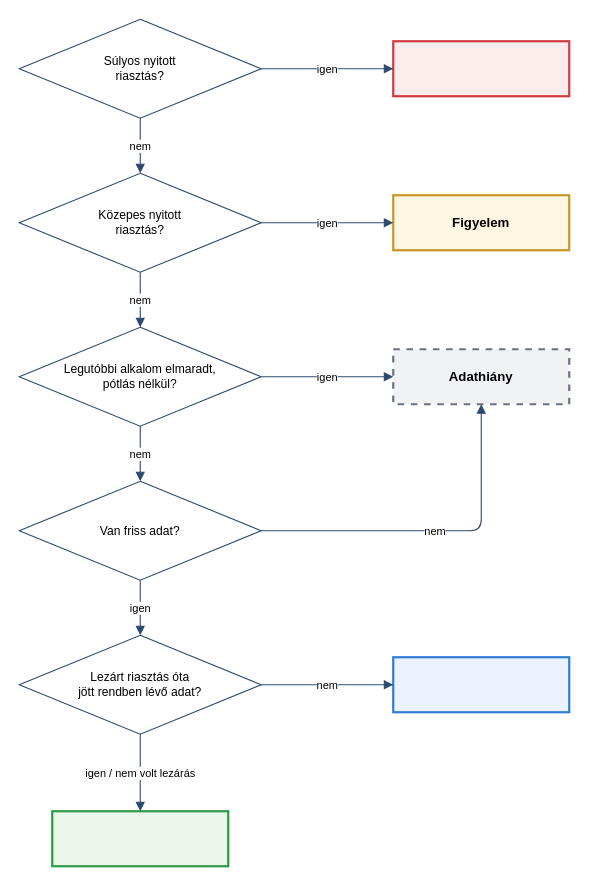
Image size: 590x887. Some labels were removed from this diagram. Each missing label, with the box of its shape:
Kezelve: (392, 656, 570, 713)
Rendben: (51, 810, 229, 867)
Súlyos: (392, 40, 570, 97)
